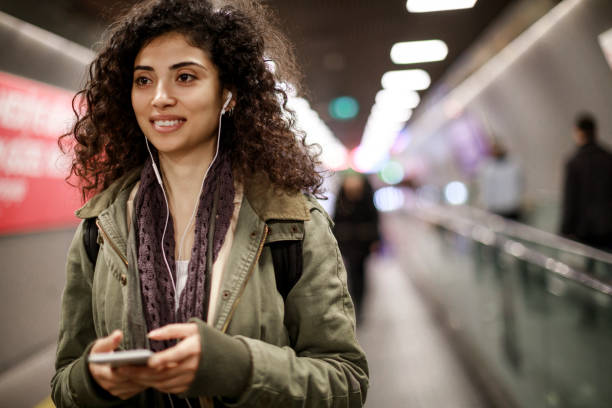face: (131, 48, 223, 152)
